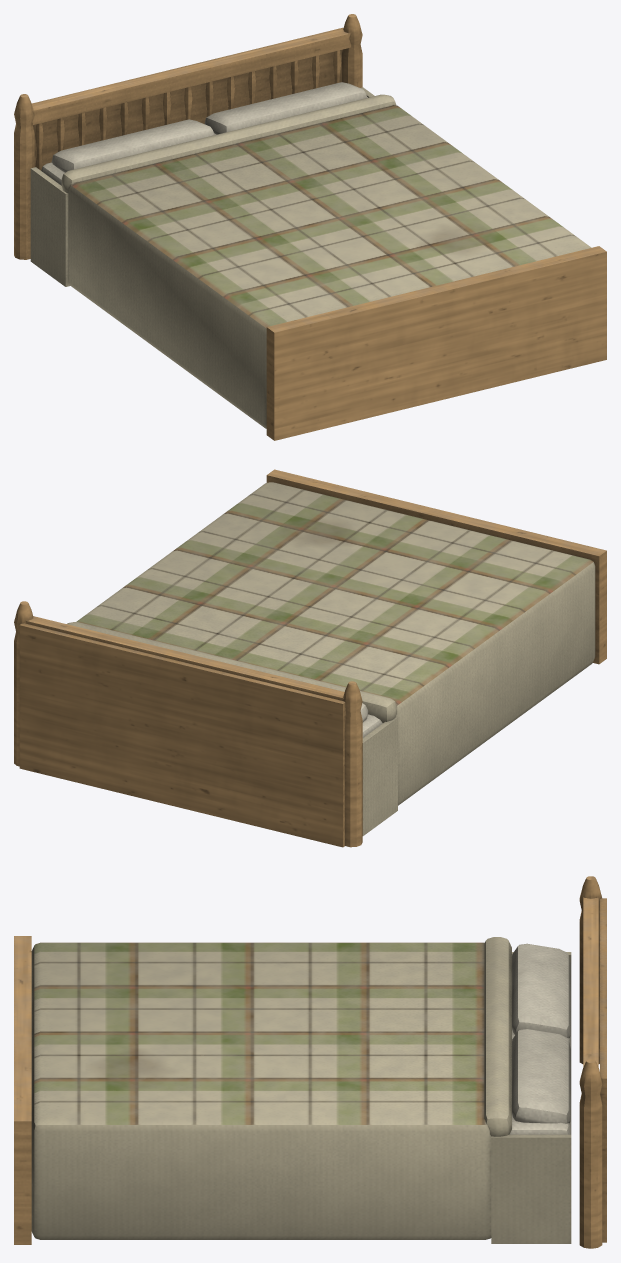
The model's file is H_Bed_Double_Maple.fbx.
The picture shows the model from 3 angles, top to bottom: view 1: azimuth 30°, elevation 25°; view 2: azimuth 150°, elevation 25°; view 3: azimuth 270°, elevation 25°; orthographic projection. The views are drawn at different scales.
Visible parts, largest first — view 1: H_Bed_Double_Maple; view 2: H_Bed_Double_Maple; view 3: H_Bed_Double_Maple.
Boxes of the visible parts, x1,y1,x2,y2 form: H_Bed_Double_Maple: (14, 14, 606, 440); H_Bed_Double_Maple: (14, 469, 606, 847); H_Bed_Double_Maple: (14, 876, 606, 1248).
Bounding box in the file's own units: 770 × 340 × 1000.
1 material, 1 textured.
